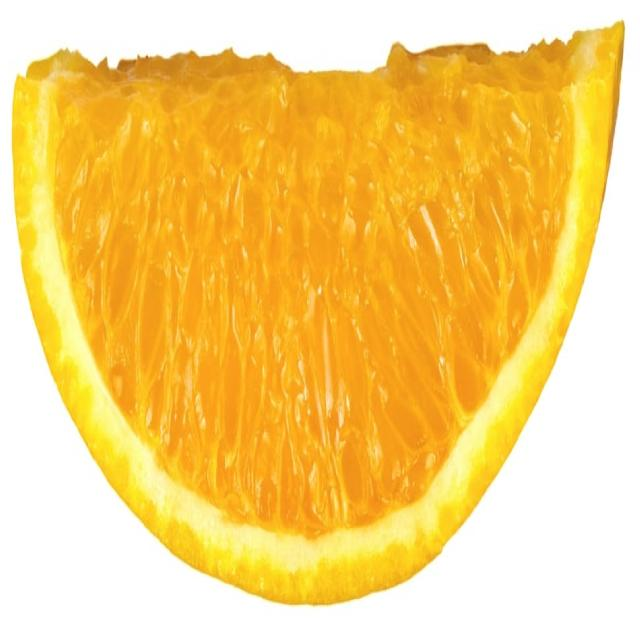orange: (13, 35, 638, 608)
